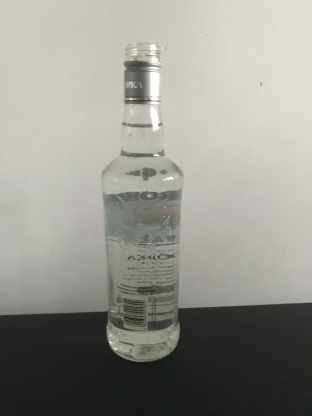nakretka: (121, 39, 163, 104)
